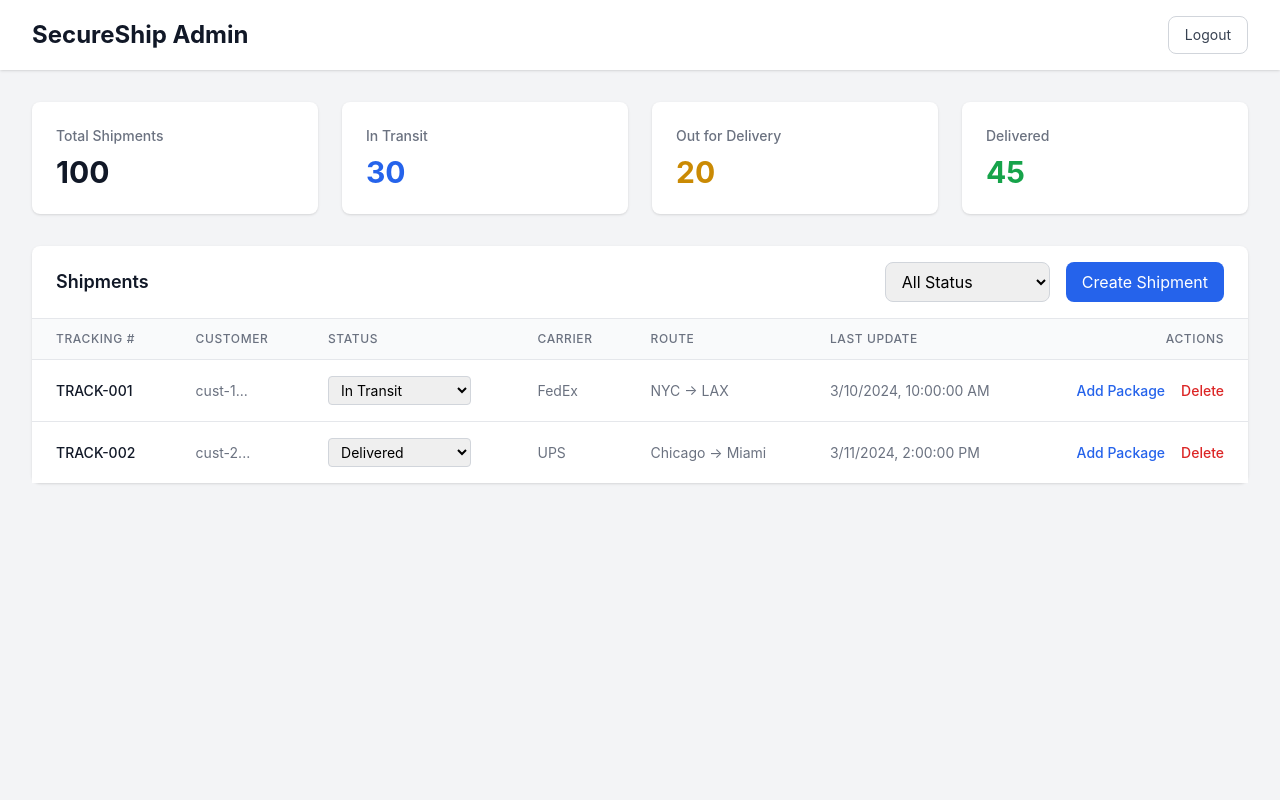
Scenario: AdminDashboard › should handle add package action
Expected: the text "TRACK-001" is shown, [32,360,172,422]
Click the button "Add Package" in the row of "TRACK-001". click: (1121, 390)
box: [1077,380,1165,400]
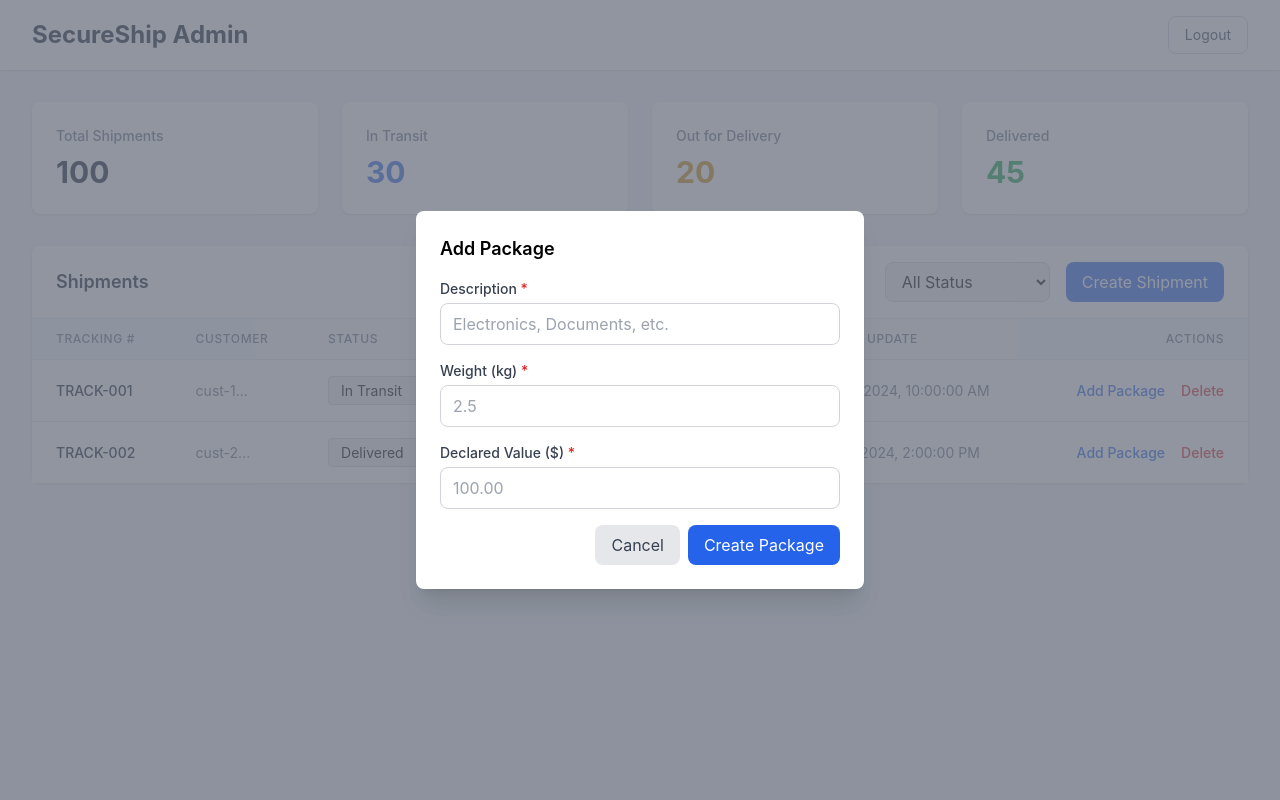
Expected: the heading "Add Package" is shown, [440,238,555,259]
